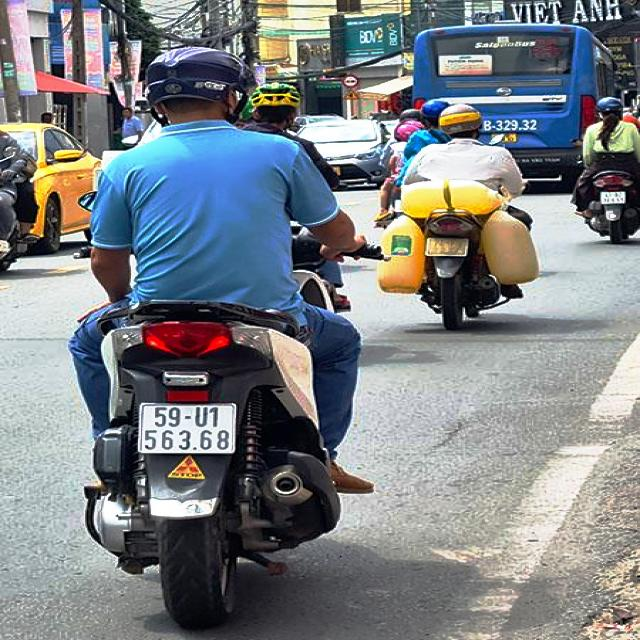license_plate: (140, 405, 236, 453)
